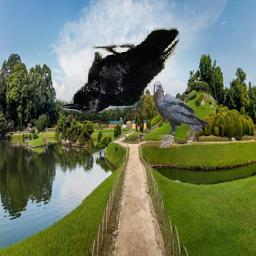Crow: (60, 27, 180, 113), (154, 82, 209, 149)
